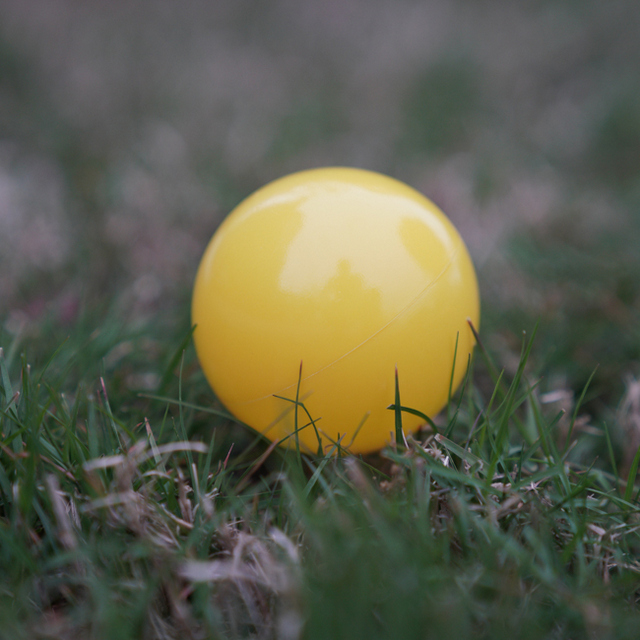Ball: (182, 172, 484, 457)
